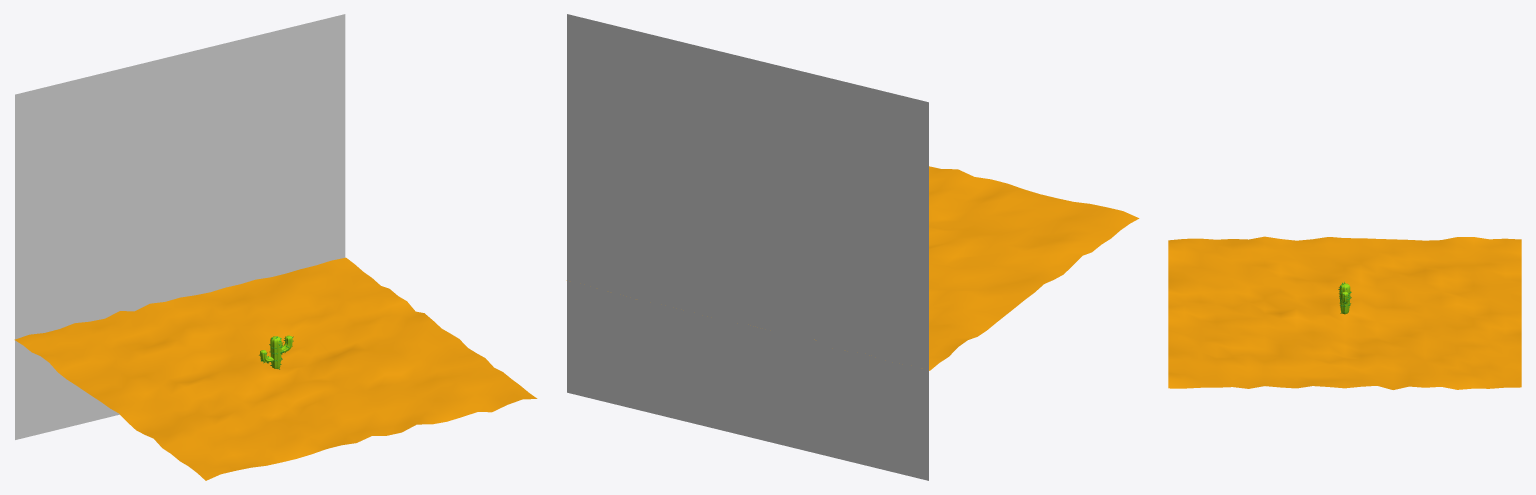
Rendered from uploads_files_3582577_cactus+1.fbx.
The picture shows the model from 3 angles, left to right: view 1: azimuth 30°, elevation 25°; view 2: azimuth 150°, elevation 25°; view 3: azimuth 270°, elevation 25°; orthographic projection. The views are drawn at different scales.
Visible parts, largest first — view 1: Plane.001, Plane, Circle; view 2: Plane.001, Plane; view 3: Plane.
Part boxes in pixels (left/top/right/bottom): Plane.001: left=15, top=14, right=345, bottom=439; Plane: left=14, top=257, right=537, bottom=480; Circle: left=260, top=335, right=292, bottom=368; Plane.001: left=567, top=14, right=928, bottom=480; Plane: left=566, top=166, right=1139, bottom=370; Plane: left=1168, top=236, right=1521, bottom=389.
Bounding box in the file's own units: 7260 × 7226 × 7260.
